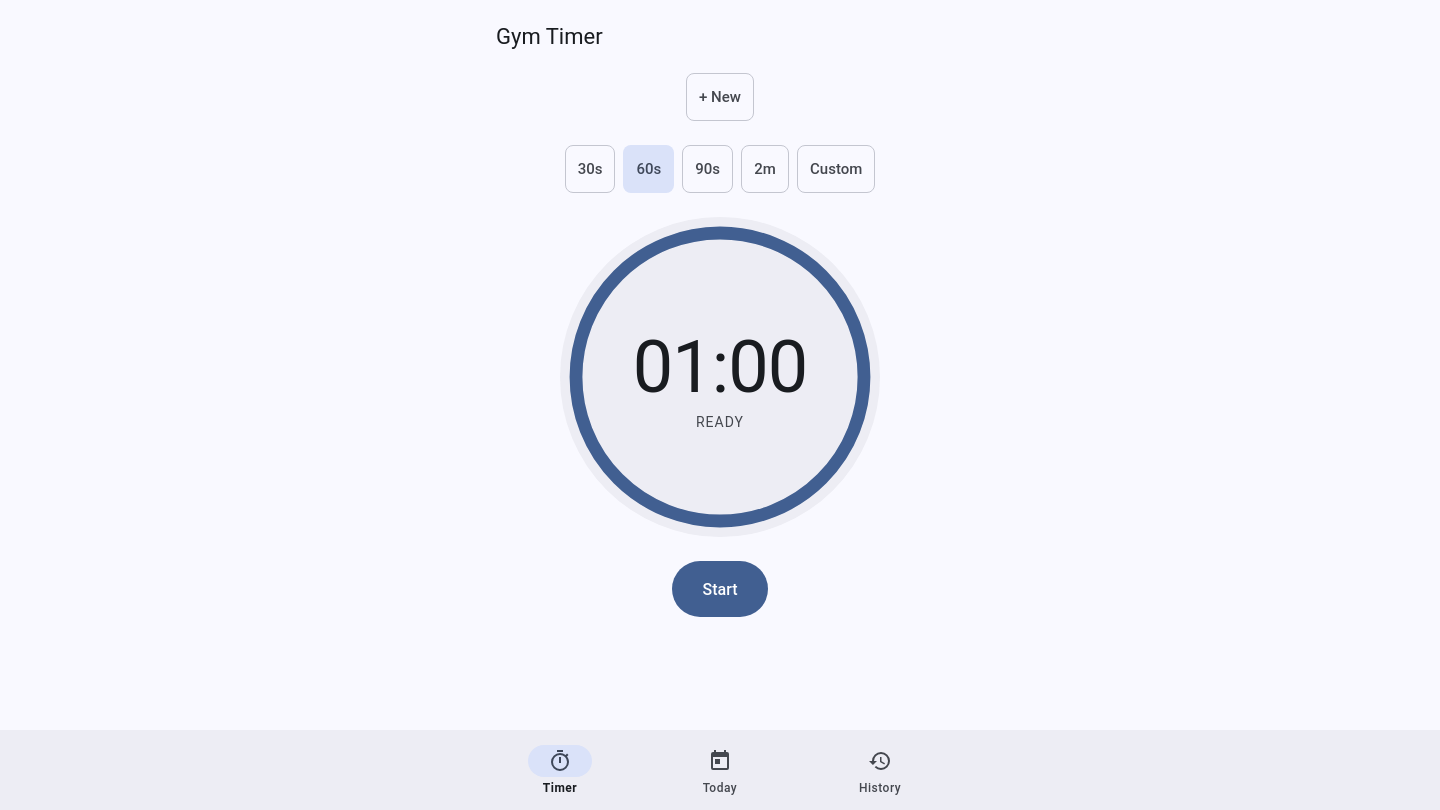
History › Export is disabled with no data at all
Click the button "History". click: (880, 770)
box: [800,730,960,809]
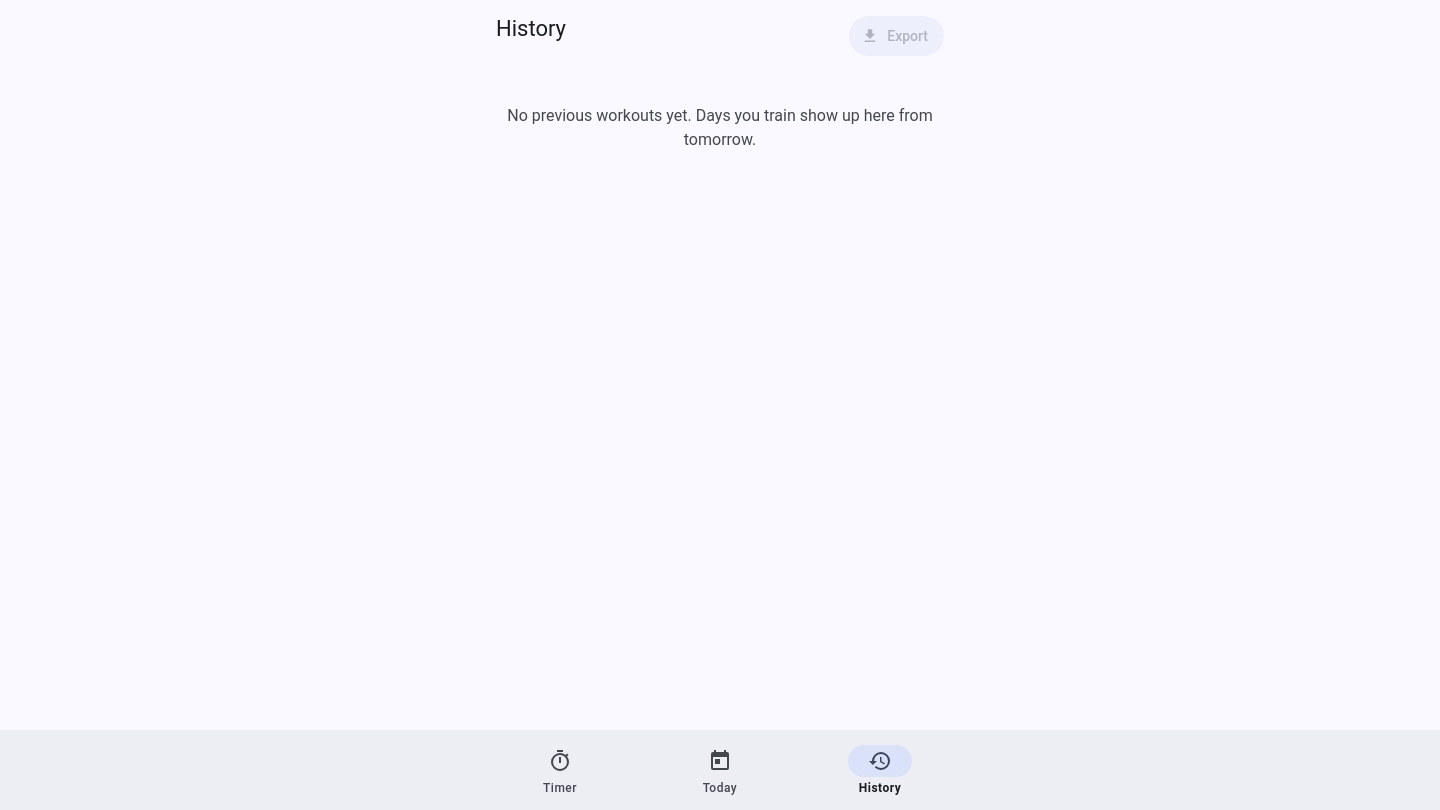
Check: the button "Export" is disabled, box [849,16,944,56]
